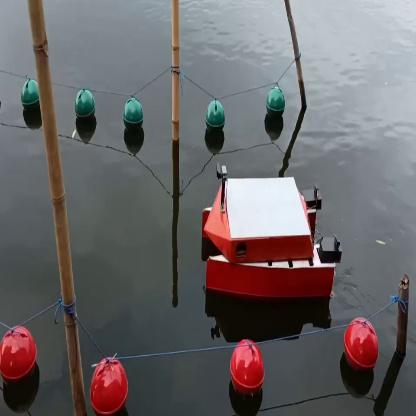green_buoy: (121, 96, 144, 135), (72, 91, 95, 130), (264, 86, 286, 122), (18, 80, 40, 115), (204, 96, 225, 132)
red_buoy: (342, 316, 382, 376), (228, 340, 266, 397), (90, 360, 130, 414), (0, 332, 36, 385)
